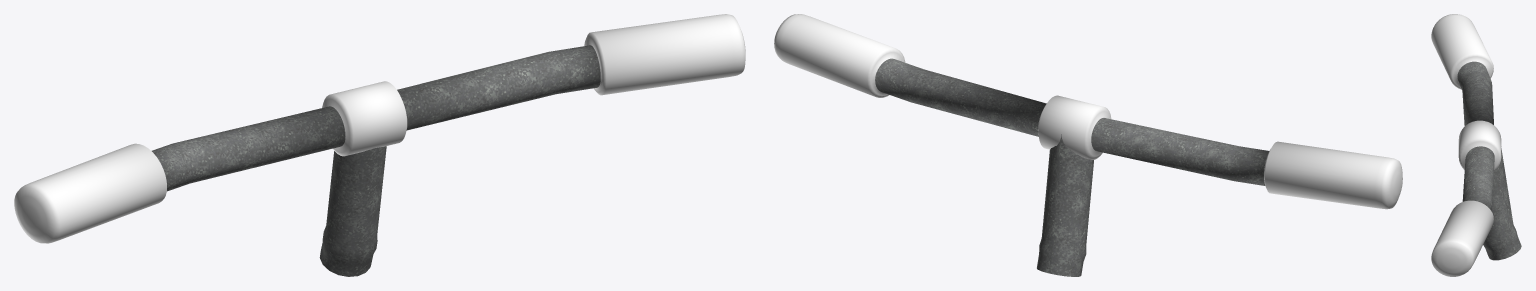
File: Guidao reto.glb
The picture shows the model from 3 angles, left to right: view 1: azimuth 30°, elevation 25°; view 2: azimuth 150°, elevation 25°; view 3: azimuth 270°, elevation 25°; orthographic projection. The views are drawn at different scales.
Parts seen in each view (by area): view 1: Guidao; view 2: Guidao; view 3: Guidao.
Part boxes in pixels (x1=…): Guidao: x1=14, y1=14, x2=745, y2=276; Guidao: x1=774, y1=14, x2=1402, y2=276; Guidao: x1=1431, y1=14, x2=1521, y2=276.
Size of the model in its own units: 0.5678 by 0.1475 by 0.0933.
Materials: 2 (1 with a texture image).
